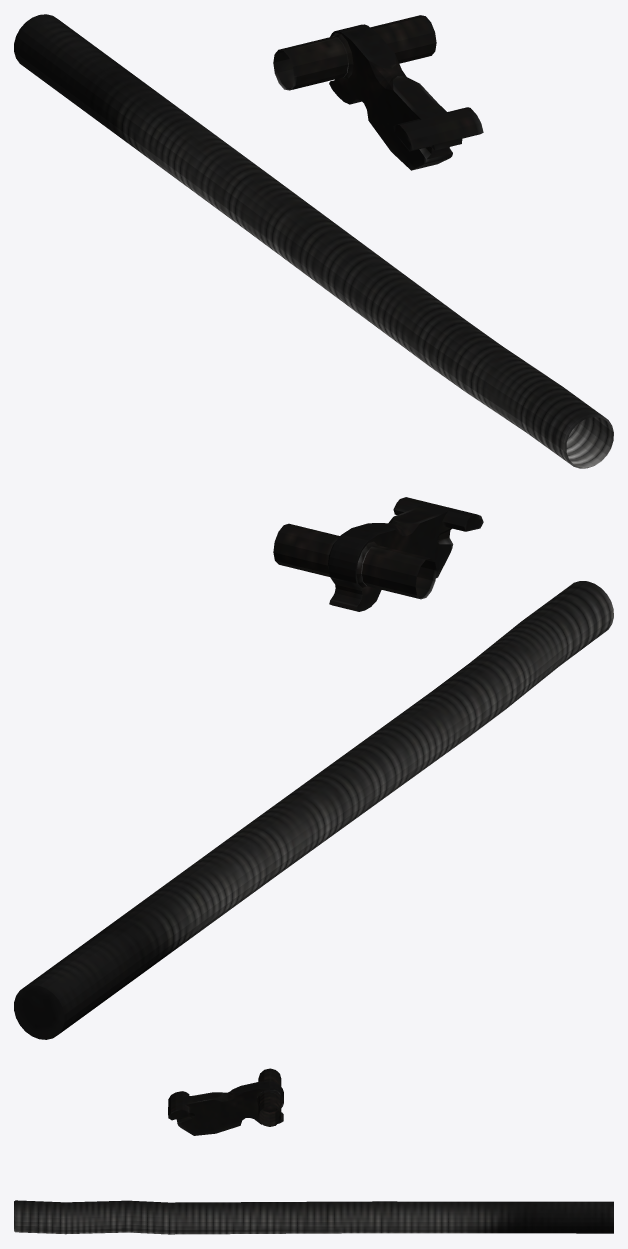
3 views of the same model, one above another, from view 1: azimuth 30°, elevation 25°; view 2: azimuth 150°, elevation 25°; view 3: azimuth 270°, elevation 25° (orthographic). The views are drawn at different scales.
Visible parts, largest first — view 1: TW_59984ab886f7743e98271174_PZ_Import; view 2: TW_59984ab886f7743e98271174_PZ_Import; view 3: TW_59984ab886f7743e98271174_PZ_Import.
Part boxes in pixels (x1,y1,x2,y2): TW_59984ab886f7743e98271174_PZ_Import: (14,14,613,468); TW_59984ab886f7743e98271174_PZ_Import: (14,497,613,1039); TW_59984ab886f7743e98271174_PZ_Import: (14,1068,613,1234).
Bounding box in the file's own units: 0.0183 × 0.1228 × 0.0335.
1 material, 1 textured.
